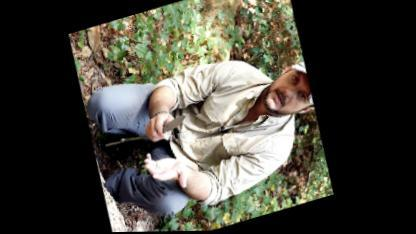knife: (142, 106, 196, 145)
